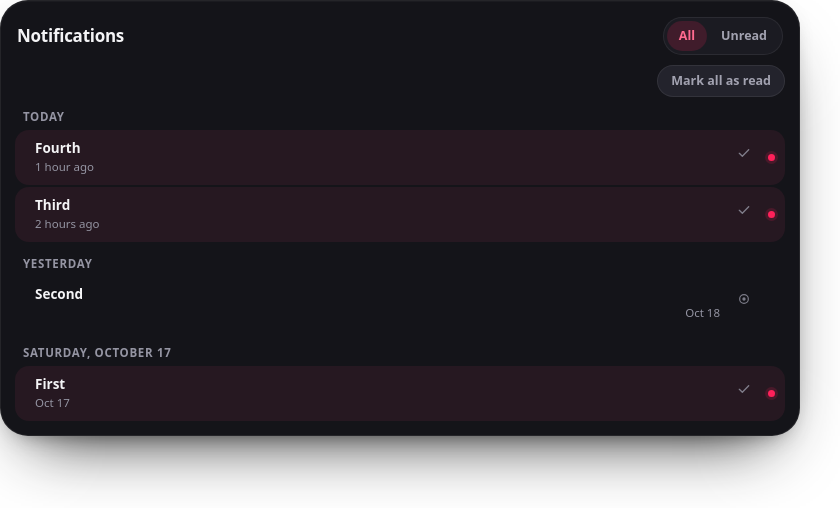
Scenario: the default animation kit › lets the exiting row go at once when the filter changes under it
Expected: the text "Fourth" is shown, [35,139,80,157]
Click the button "Unread" at (744, 36), box [709,21,779,51]
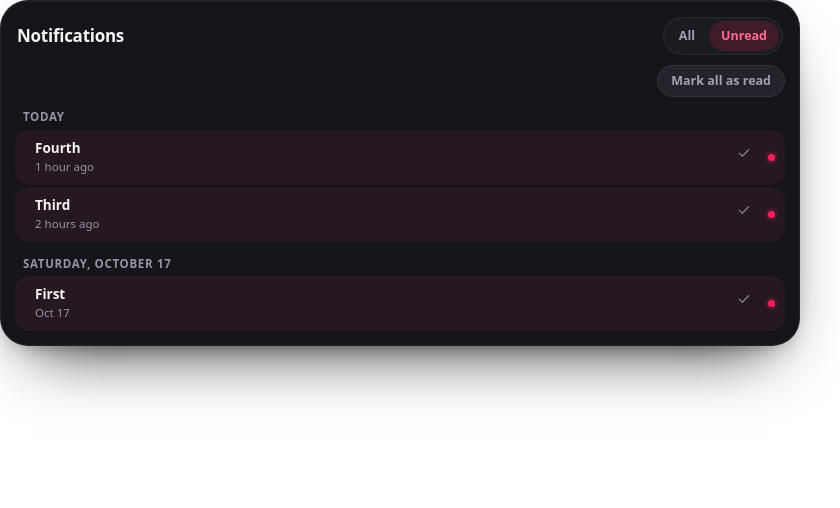
Now the text "Second" is gone
Click the button named "Mark as read: Fourth" at (744, 153), box [730,139,758,167]
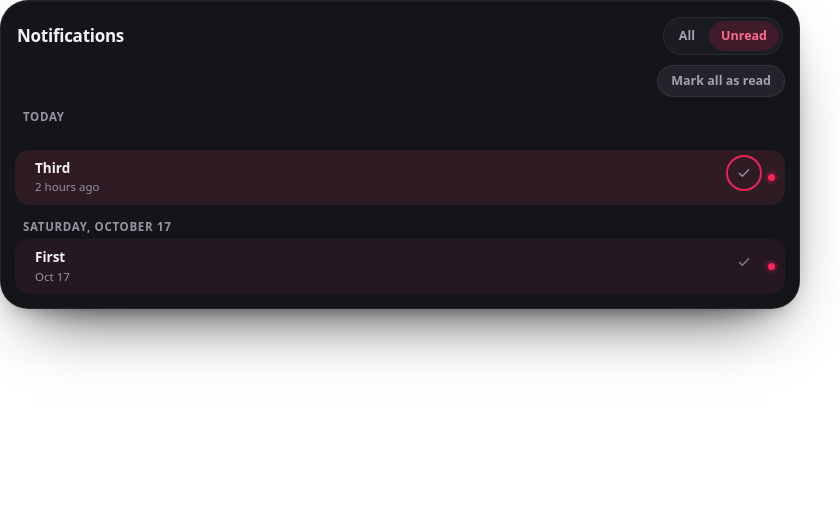
Click the button "All" at (687, 36), box [667,21,707,51]
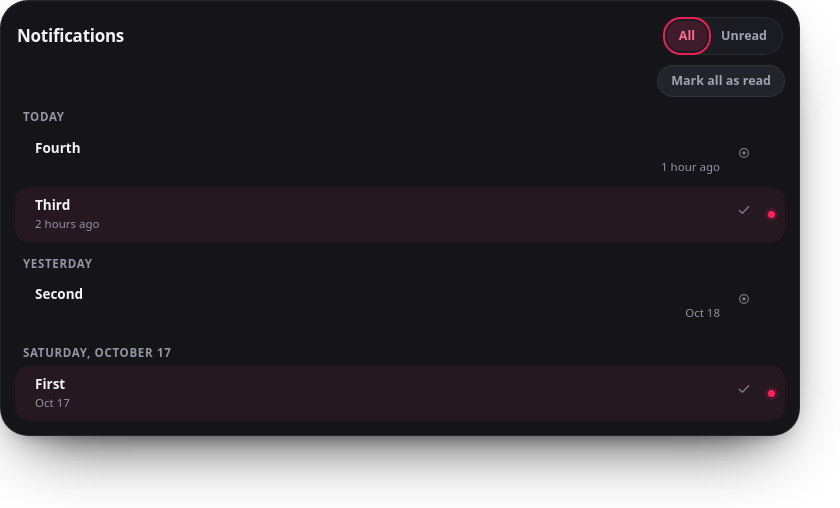
Now the text "Fourth" is shown once, box [35,139,80,157]
